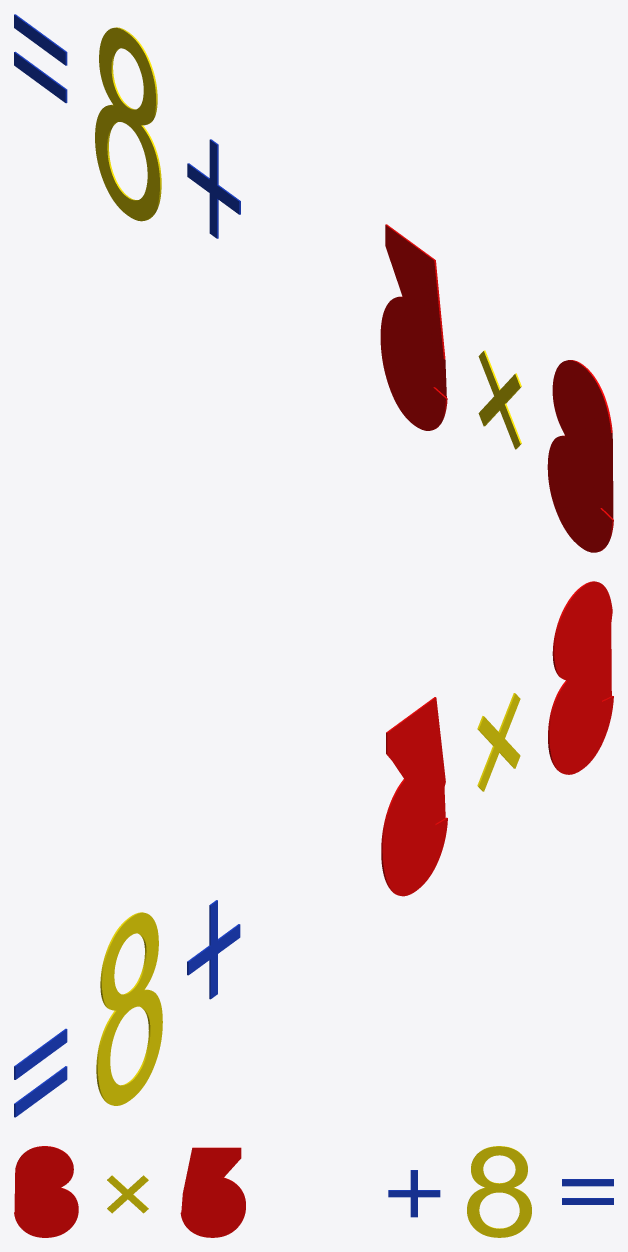
The model's file is tnk-11.fbx.
3 views of the same model, one above another, from view 1: azimuth 30°, elevation 25°; view 2: azimuth 150°, elevation 25°; view 3: azimuth 270°, elevation 25° (orthographic). The views are drawn at different scales.
Parts seen in each view (by area): view 1: tnk11, RAVNO_1, x; view 2: tnk11, RAVNO_1, x; view 3: tnk11, RAVNO_1, x.
Part boxes in pixels (x1=…): tnk11: x1=95, y1=27, x2=613, y2=552; RAVNO_1: x1=14, y1=14, x2=67, y2=103; x: x1=478, y1=350, x2=521, y2=449; tnk11: x1=96, y1=581, x2=613, y2=1105; RAVNO_1: x1=14, y1=1028, x2=67, y2=1117; x: x1=477, y1=693, x2=520, y2=791; tnk11: x1=14, y1=1146, x2=531, y2=1237; RAVNO_1: x1=562, y1=1179, x2=613, y2=1204; x: x1=107, y1=1175, x2=148, y2=1213.
Size of the model in its own units: 1.5 by 109 by 649.
